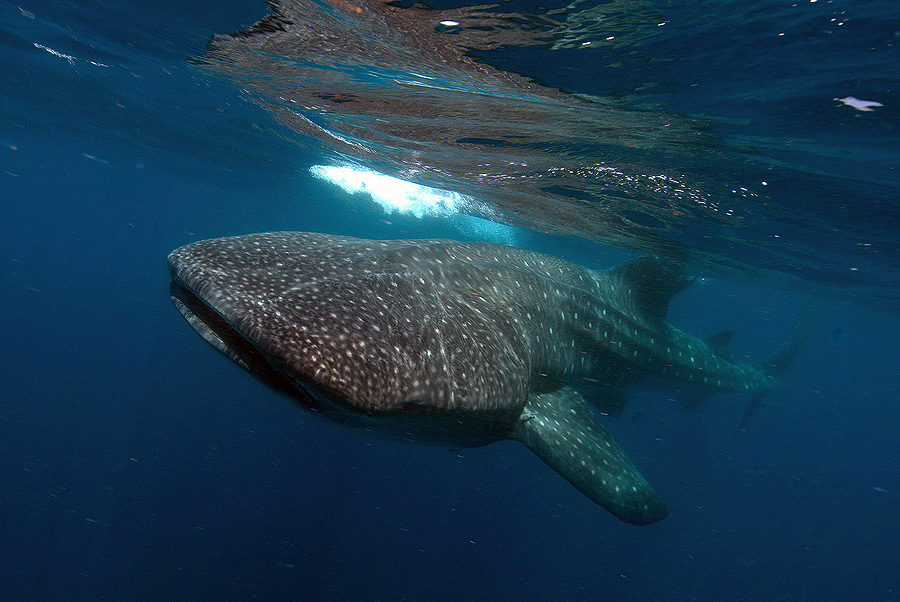Rhincodon_typusw: (146, 210, 818, 578)
